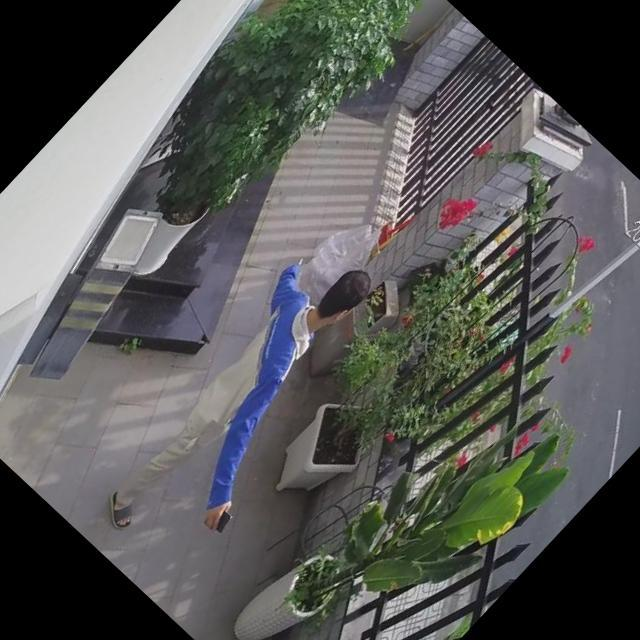person: (82, 229, 421, 579)
